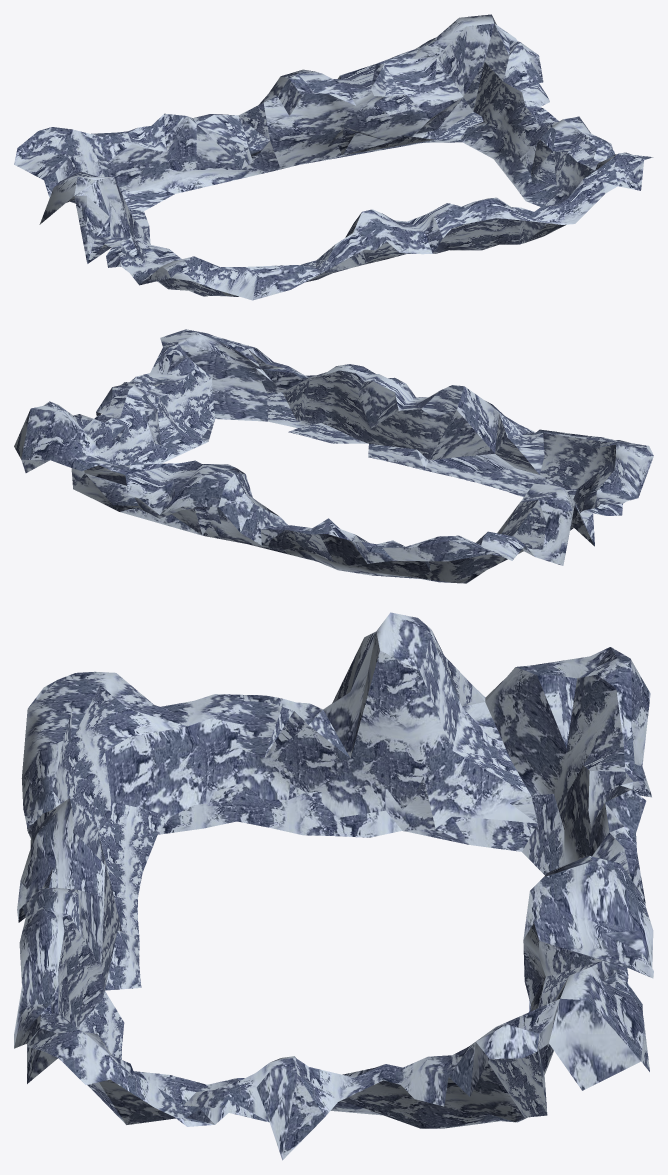
The model's file is atch01.obj.
3 views of the same model, one above another, from view 1: azimuth 30°, elevation 25°; view 2: azimuth 150°, elevation 25°; view 3: azimuth 270°, elevation 25° (orthographic). The views are drawn at different scales.
Parts seen in each view (by area): view 1: atch01; view 2: atch01; view 3: atch01.
Boxes of the visible parts, left/top/right/bottom form: atch01: left=14, top=14, right=653, bottom=300; atch01: left=14, top=329, right=653, bottom=583; atch01: left=14, top=612, right=653, bottom=1160.
Bounding box in the file's own units: 6280 × 1173 × 3925.
